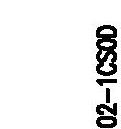verticaltext: (94, 23, 119, 128)
